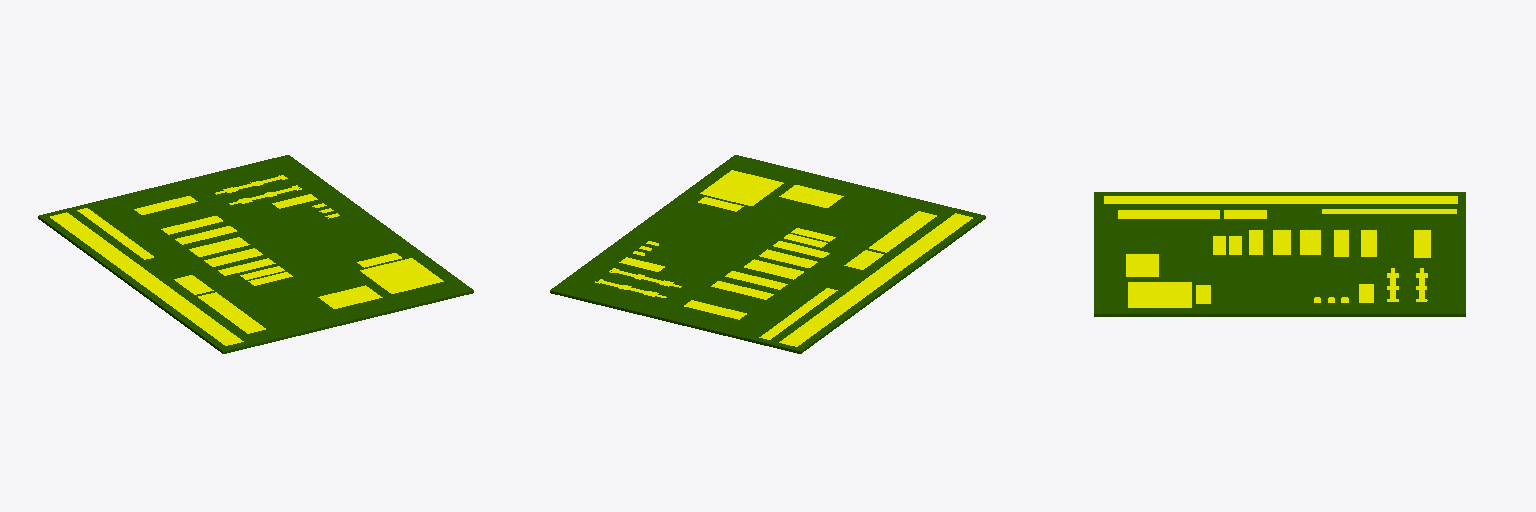
Rendered from Layout.obj.
The picture shows the model from 3 angles: view 1: azimuth 30°, elevation 25°; view 2: azimuth 150°, elevation 25°; view 3: azimuth 270°, elevation 25°; orthographic projection.
Parts seen in each view (by area): view 1: Mesh1 Group1 Model; view 2: Mesh1 Group1 Model; view 3: Mesh1 Group1 Model.
Boxes of the visible parts, x1,y1,x2,y2 form: Mesh1 Group1 Model: [38, 155, 473, 353]; Mesh1 Group1 Model: [550, 155, 985, 353]; Mesh1 Group1 Model: [1094, 192, 1465, 316].
Bounding box in the file's own units: 78 × 1.71 × 100.